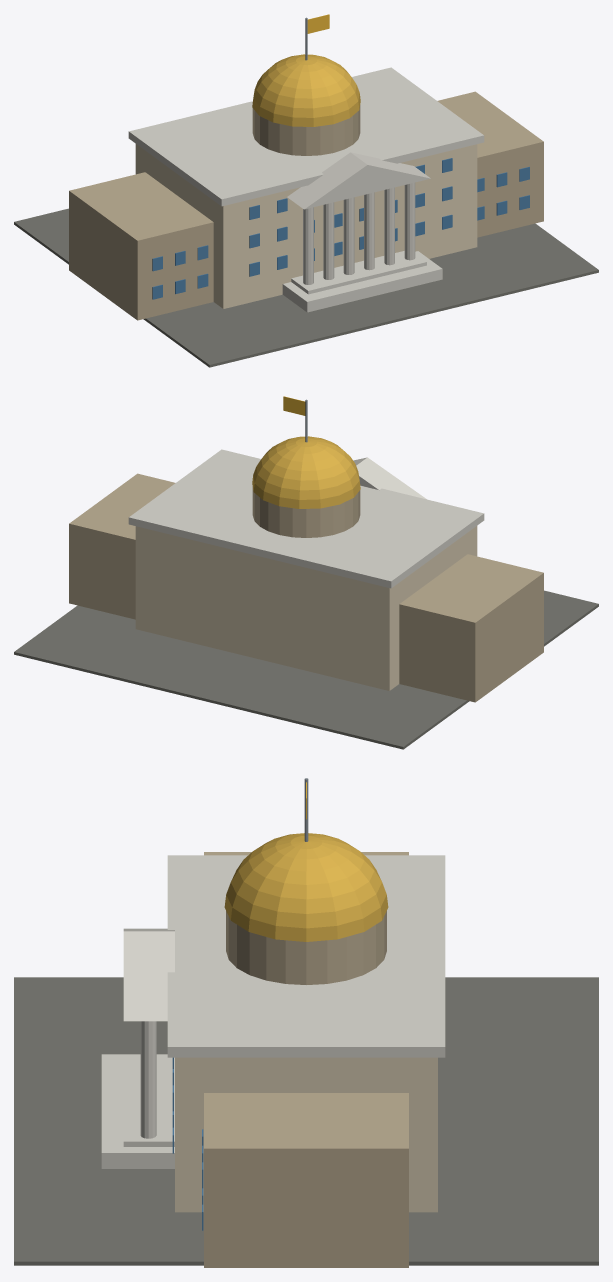
The picture shows the model from 3 angles, top to bottom: view 1: azimuth 30°, elevation 25°; view 2: azimuth 150°, elevation 25°; view 3: azimuth 270°, elevation 25°; orthographic projection. The views are drawn at different scales.
Visible parts, largest first — view 1: hq; view 2: hq; view 3: hq.
Part boxes in pixels (<box>): hq: <box>14,17,598,367</box>; hq: <box>14,399,598,749</box>; hq: <box>14,778,598,1267</box>.
Bounding box in the file's own units: 48 × 26 × 40.
